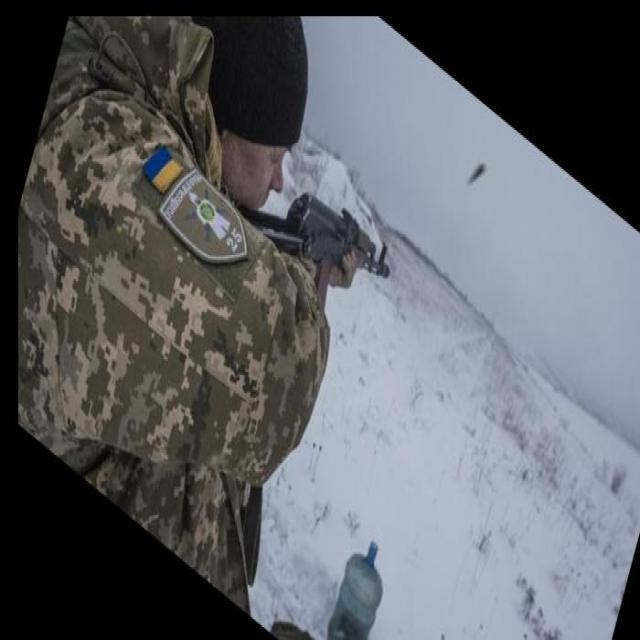weapon: (221, 192, 391, 312)
